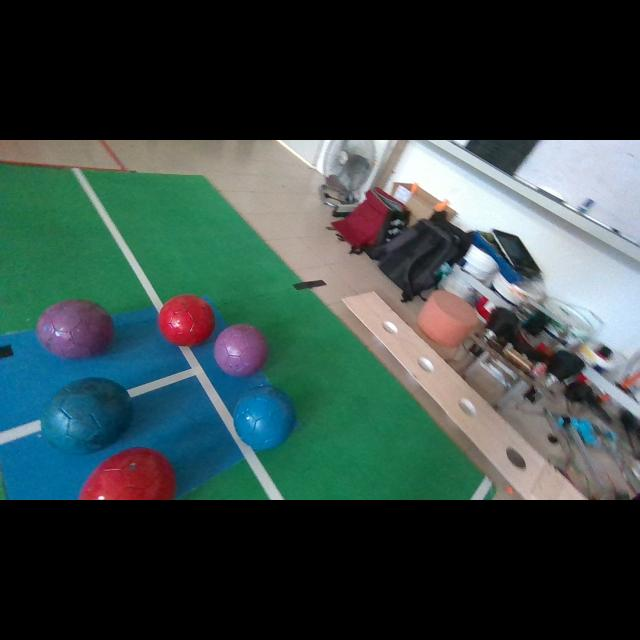B: (41, 378, 131, 454), (234, 385, 296, 450)
P: (36, 300, 114, 358), (215, 324, 268, 376)
R: (79, 448, 176, 500), (158, 295, 215, 346)
